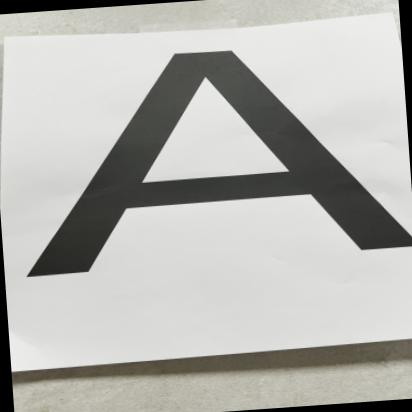seat: (0, 18, 412, 323)
